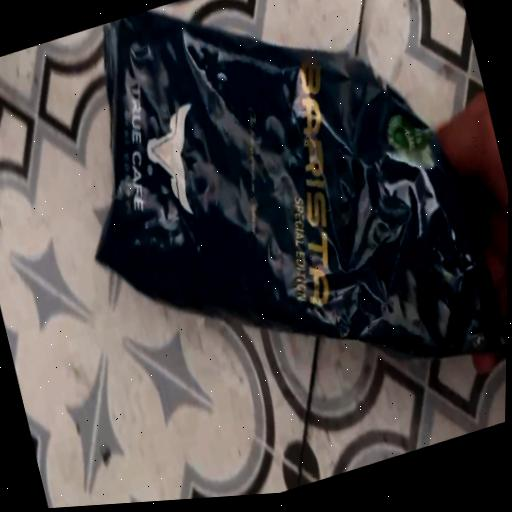cafe_hat: (97, 9, 501, 357)
